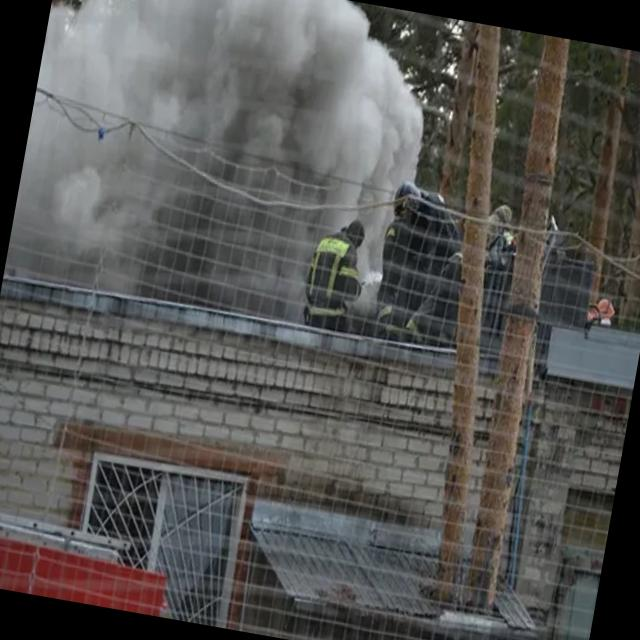Smoke: (3, 0, 444, 342)
